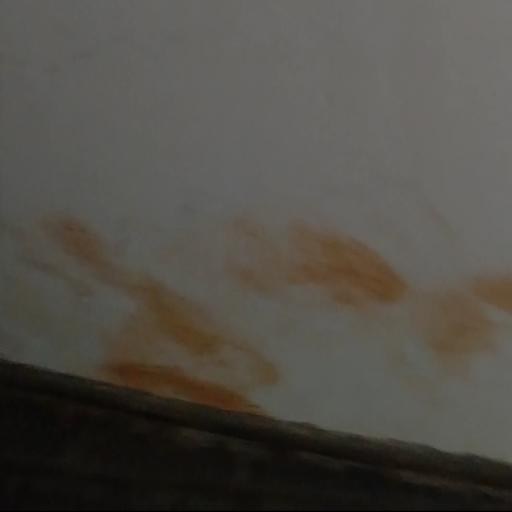stain: (0, 197, 512, 427)
